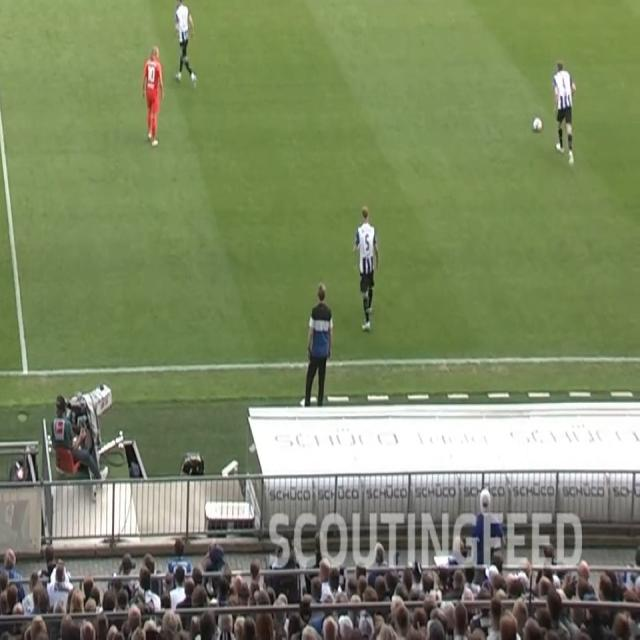ball: (532, 116, 542, 134)
